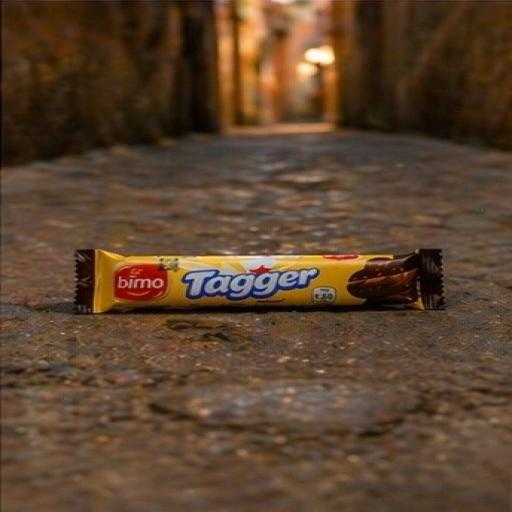tagger: (36, 200, 485, 357)
